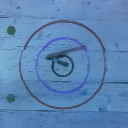Axe Tip: (51, 55, 64, 58)
